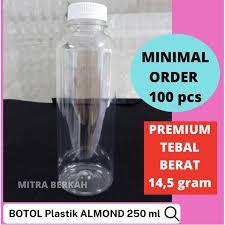BIODEGRADABLE: (48, 0, 124, 196)
